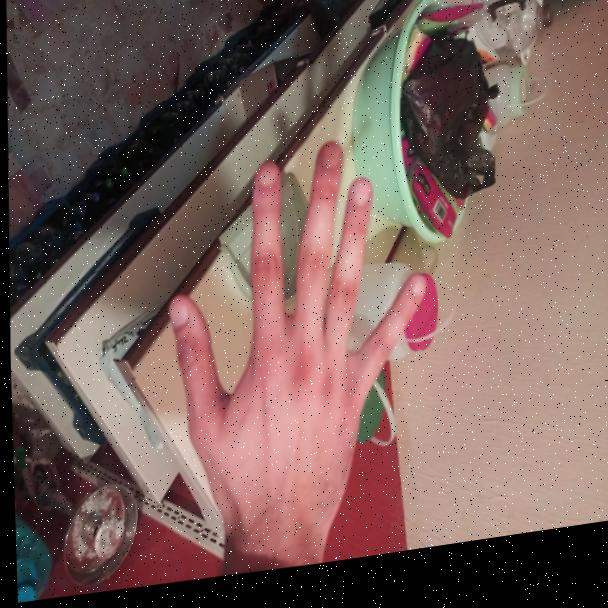five: (148, 119, 435, 569)
